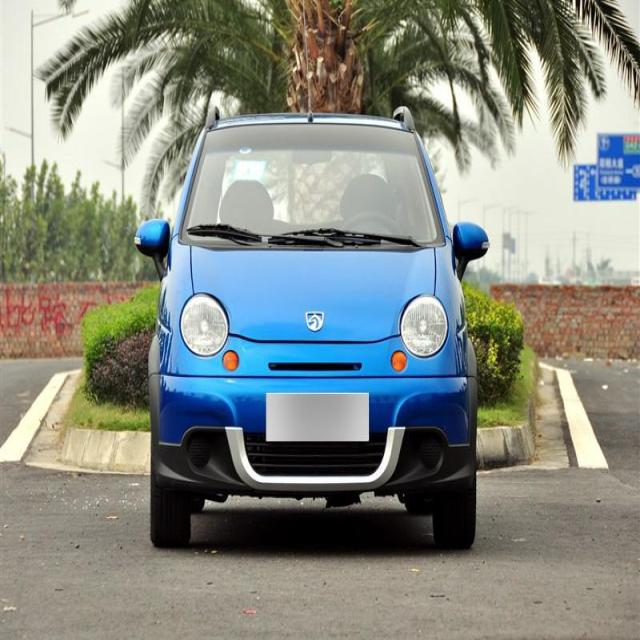front_bumper: (147, 366, 478, 499)
front_glass: (178, 120, 442, 252)
front_left_side_light: (398, 292, 449, 360)
front_left_side_mirror: (450, 214, 490, 276)
front_right_side_light: (180, 288, 230, 361)
front_right_side_mirror: (136, 215, 171, 268)
